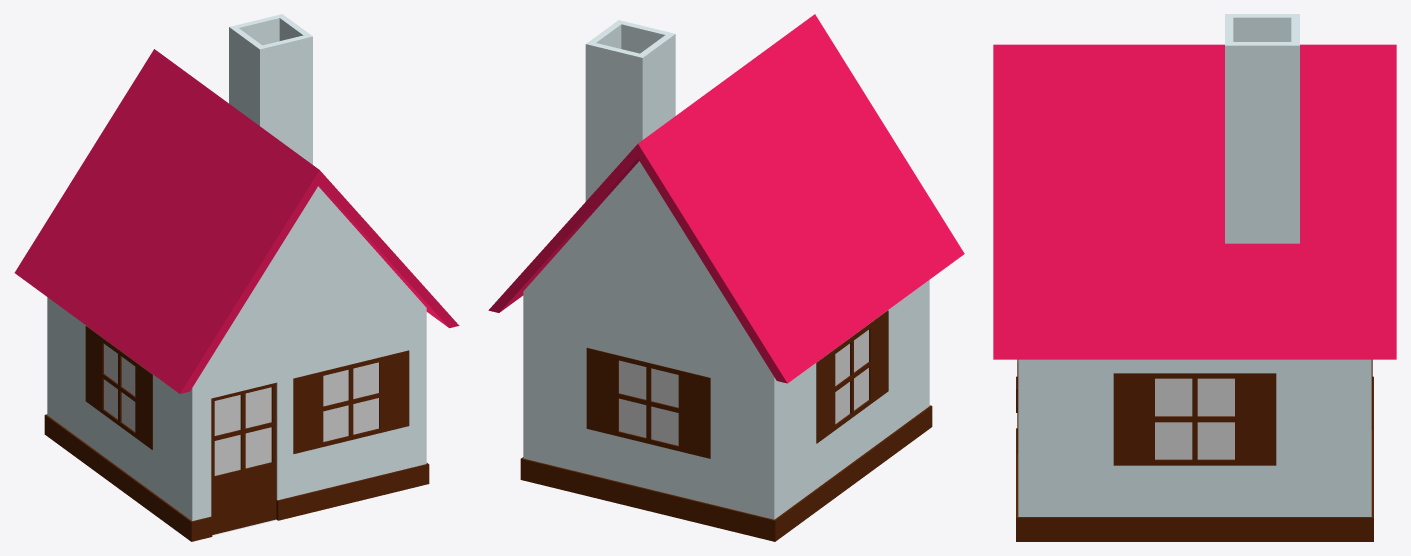
The picture shows the model from 3 angles, left to right: view 1: azimuth 30°, elevation 25°; view 2: azimuth 150°, elevation 25°; view 3: azimuth 270°, elevation 25°; orthographic projection. The views are drawn at different scales.
Parts seen in each view (by area): view 1: House, Window, Glass; view 2: House, Window, Glass; view 3: House, Window, Glass.
Boxes of the visible parts, x1,y1,x2,y2 form: House: (14, 14, 459, 541); Window: (85, 326, 409, 534); Glass: (104, 344, 378, 475); House: (488, 14, 964, 541); Window: (586, 310, 888, 458); Glass: (619, 330, 868, 445); House: (993, 14, 1396, 541); Window: (1017, 359, 1372, 465); Glass: (1155, 378, 1234, 459).
Bounding box in the file's own units: 13.93 × 18.67 × 14.27.
